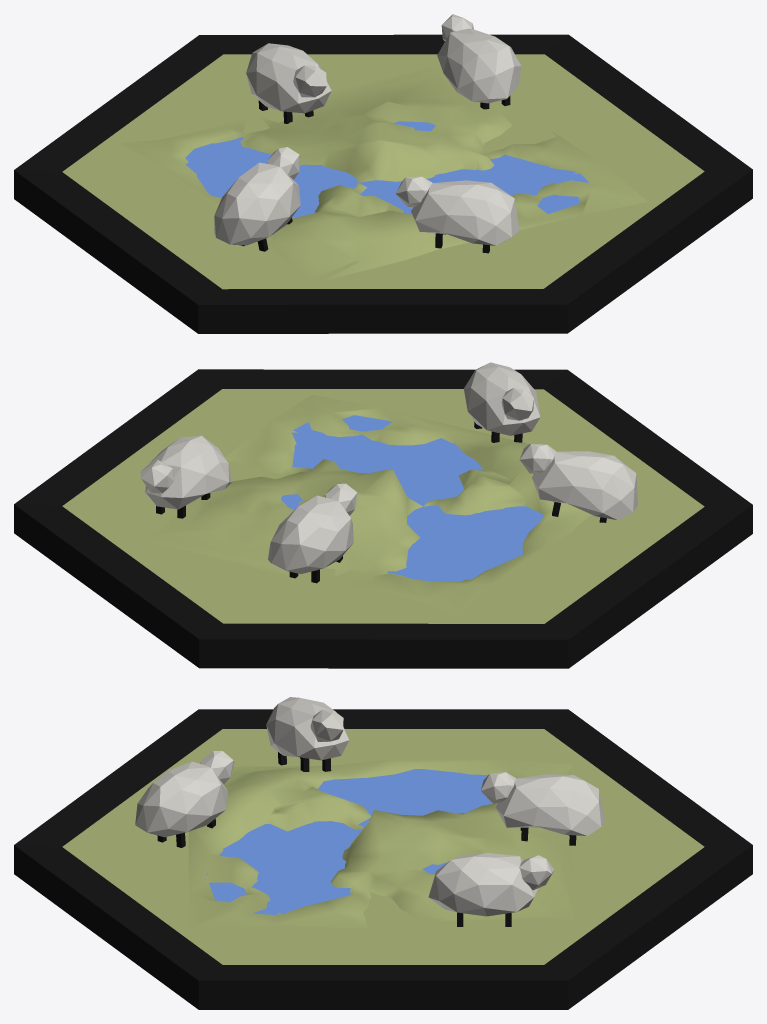
File: Tile_Sheep.fbx
The picture shows the model from 3 angles, top to bottom: view 1: azimuth 30°, elevation 25°; view 2: azimuth 150°, elevation 25°; view 3: azimuth 270°, elevation 25°; orthographic projection.
Visible parts, largest first — view 1: Sheep Tile; view 2: Sheep Tile; view 3: Sheep Tile.
Part boxes in pixels (x1=…): Sheep Tile: x1=14, y1=14, x2=752, y2=333; Sheep Tile: x1=14, y1=362, x2=752, y2=668; Sheep Tile: x1=14, y1=697, x2=752, y2=1009.
Size of the model in its own units: 200 by 34.57 by 230.
